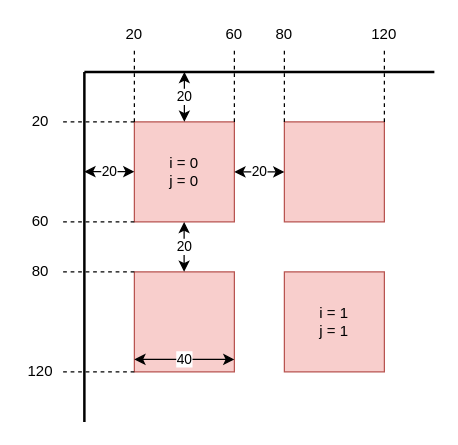
This 458x445 diagram has some shape labels left out. Here are the shapes that lost their labels. From the top down, the box of each, then its label:
(283, 121, 384, 222): i = 0 j = 1
(133, 271, 234, 372): i = 1 j = 0
